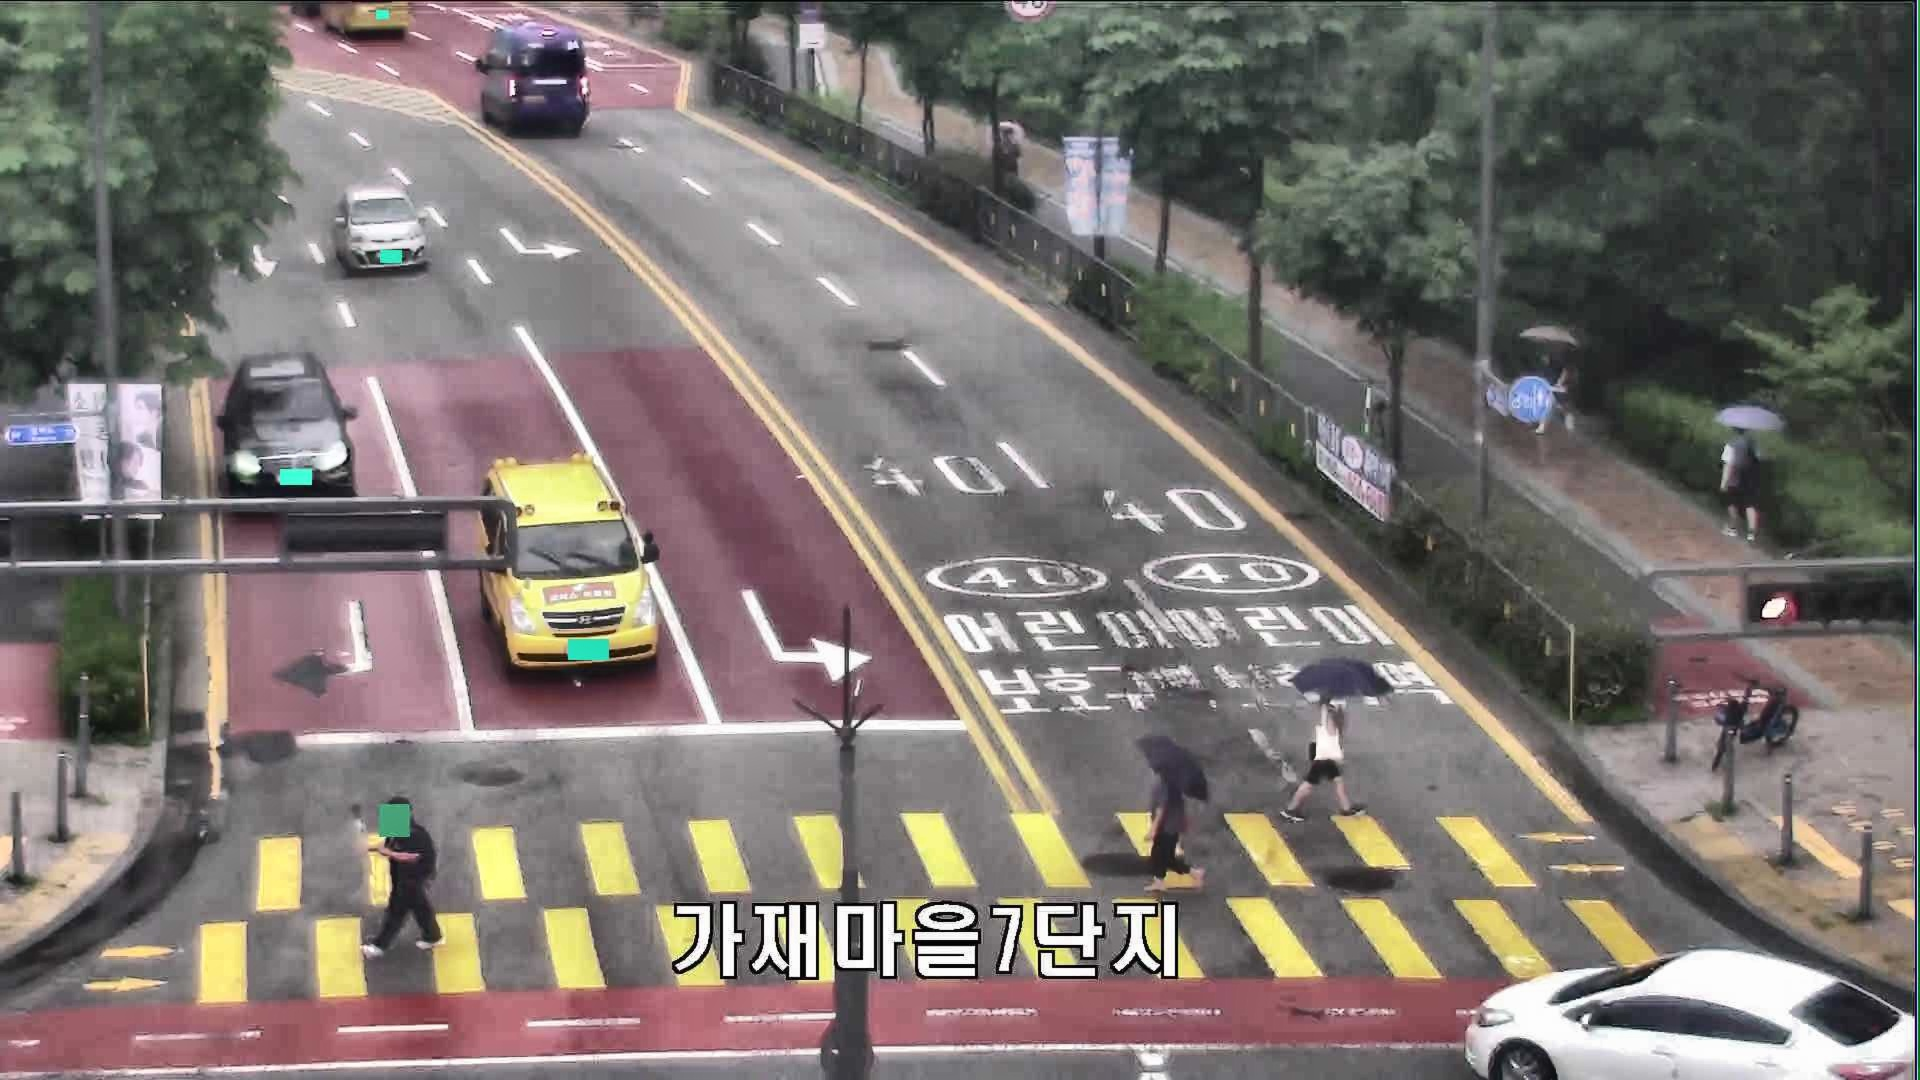crosswalk: (363, 795, 444, 957)
um_crosswalk: (1280, 658, 1394, 822), (1131, 732, 1209, 895)
um_sidewalk: (1712, 406, 1783, 541), (1522, 326, 1578, 436), (994, 123, 1027, 185)
